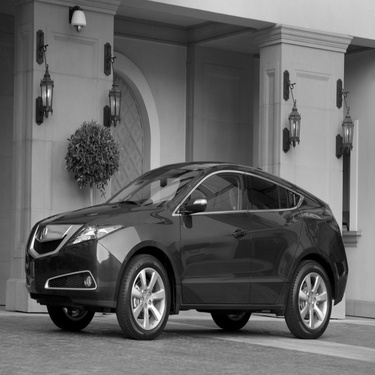car: (21, 150, 353, 346)
